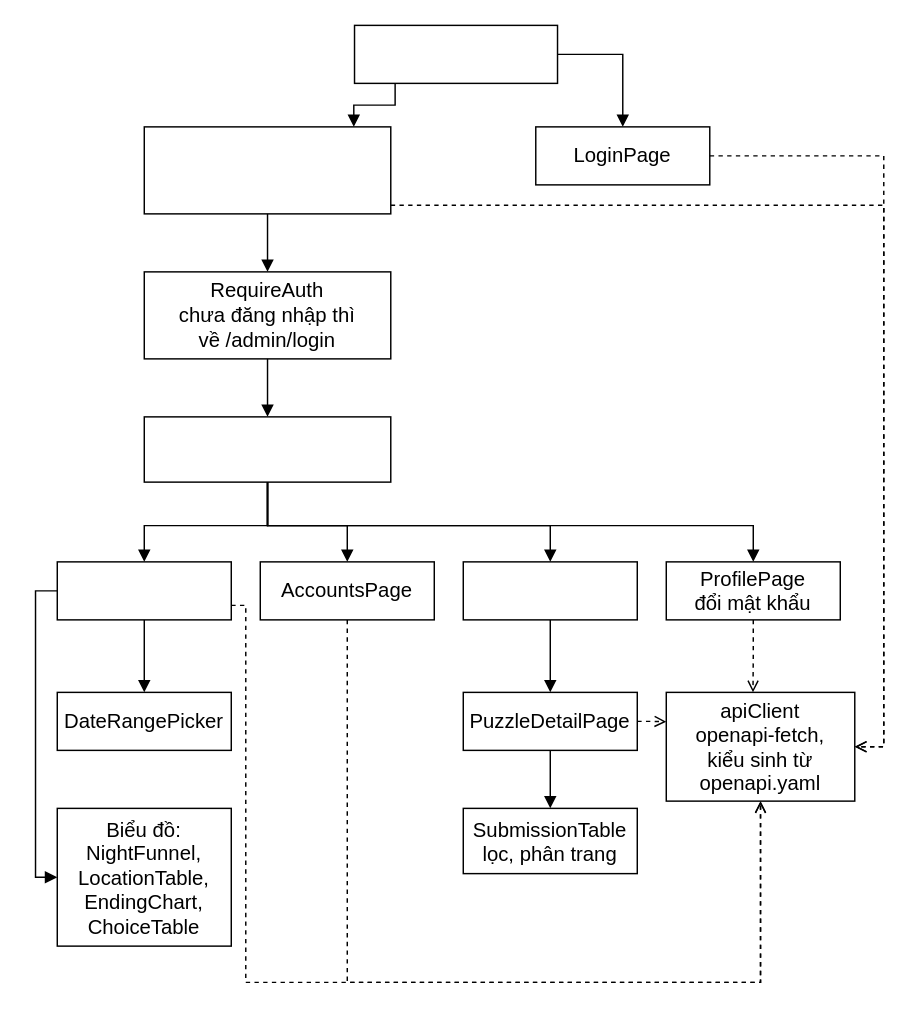
Image size: 921x1019. Some labels were removed from this diagram. The shapes that lost their labels are listed below. From the top down, each one's centre as x and y in pixels, then its label:
At point 455,53: "App bộ định tuyến".
At point 267,169: "AuthProvider giữ tài khoản đang đăng nhập".
At point 267,448: "AdminLayout thanh bên, nút đăng xuất".
At point 143,590: "DashboardPage".
At point 549,590: "PuzzlesPage".
